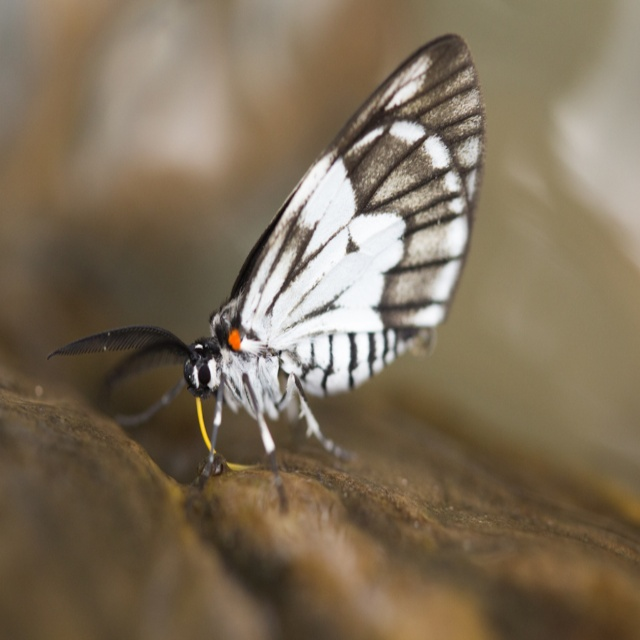Butterfly: (70, 26, 473, 526)
